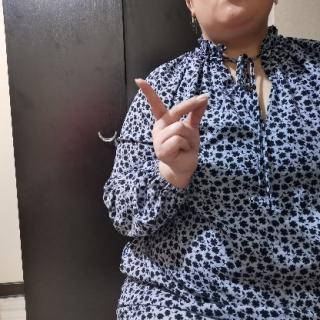TAA: (133, 73, 215, 187)
